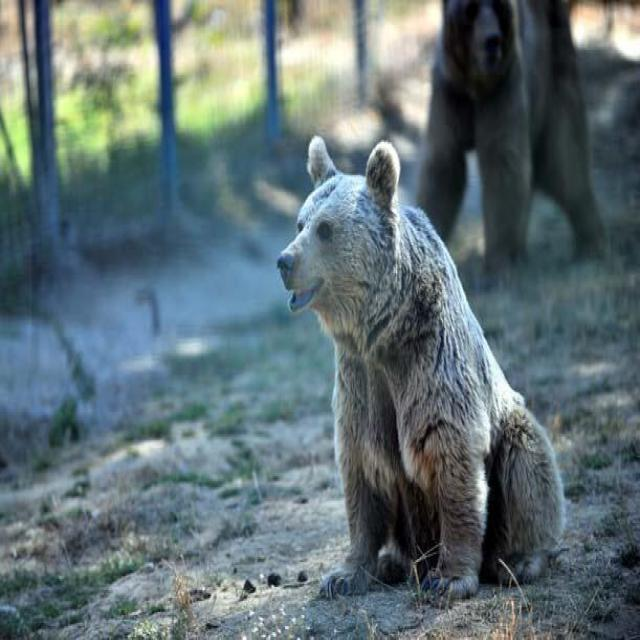Bear: (275, 137, 567, 603), (418, 0, 603, 268)
